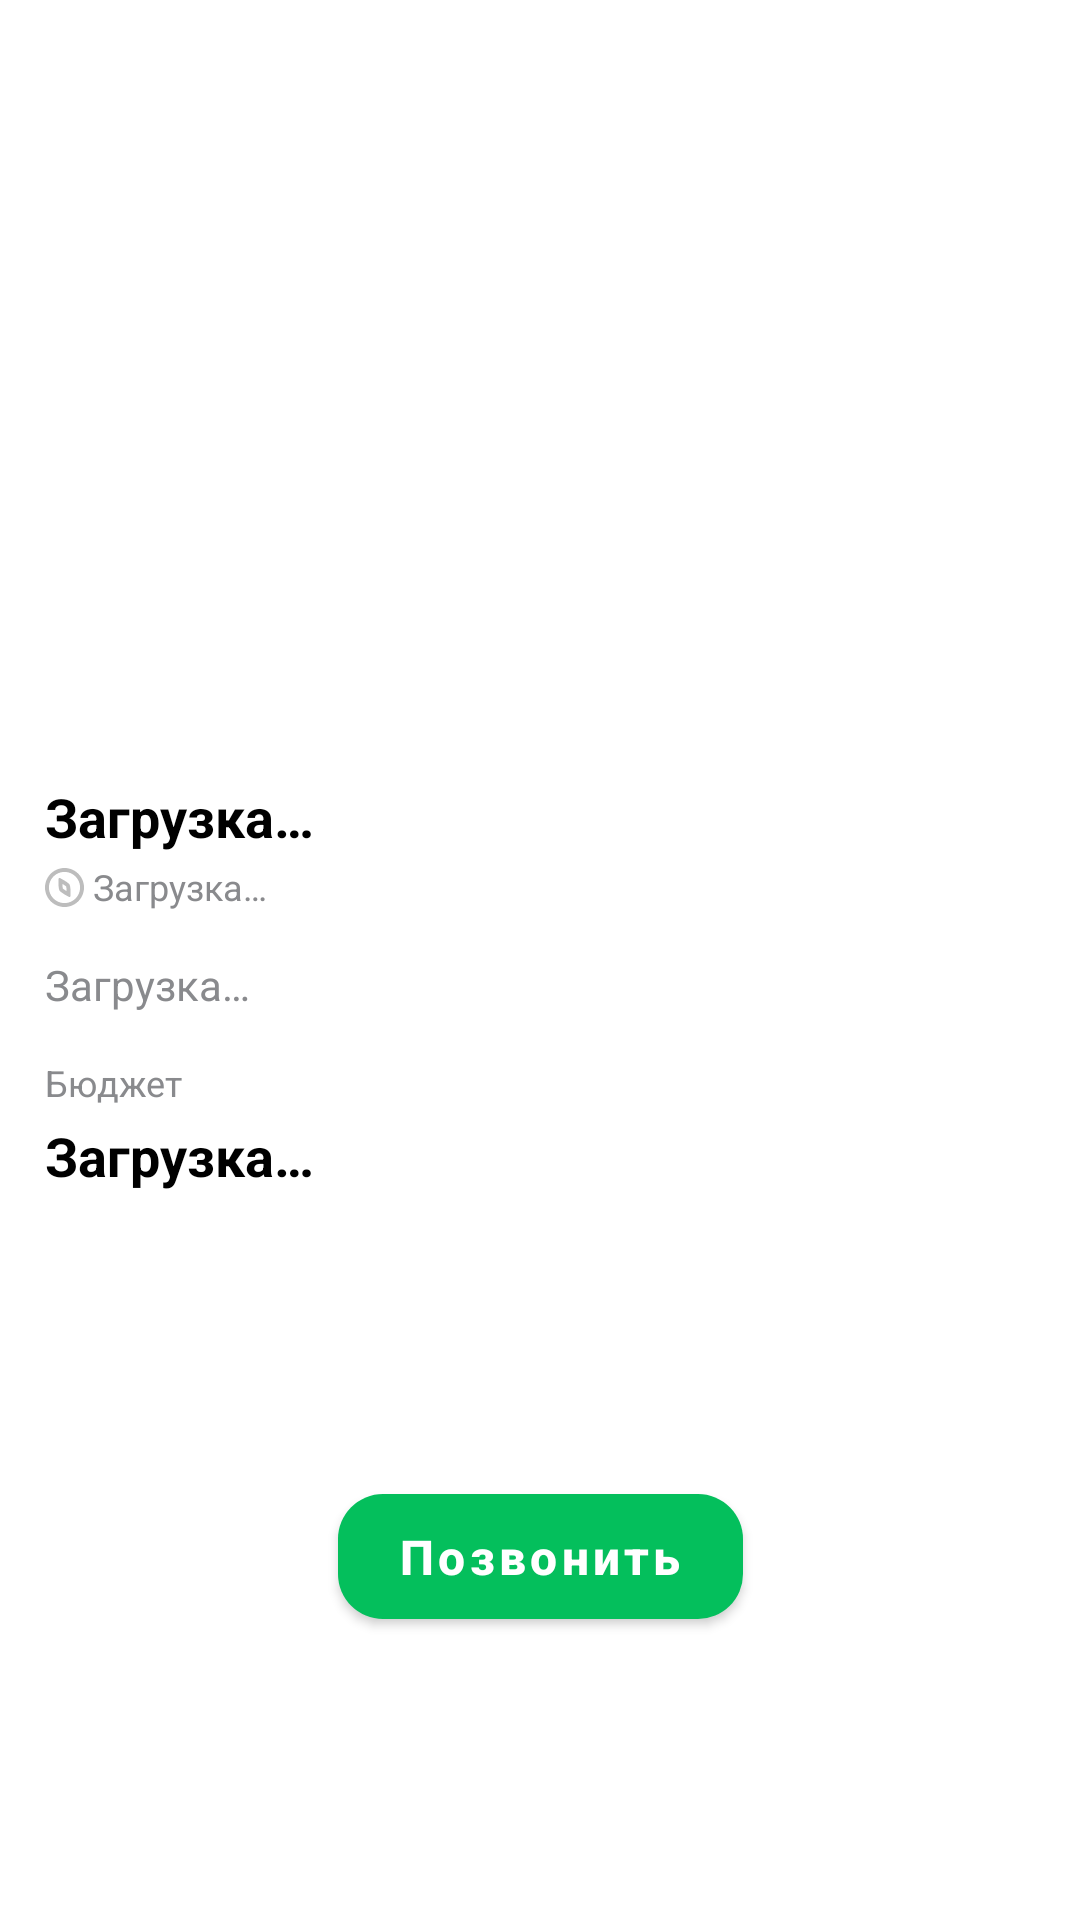

Icons on this 1080×1920 Android screen, each with its box as BBox(x1, y1, x2, y2):
compas: BBox(45, 868, 84, 907)
